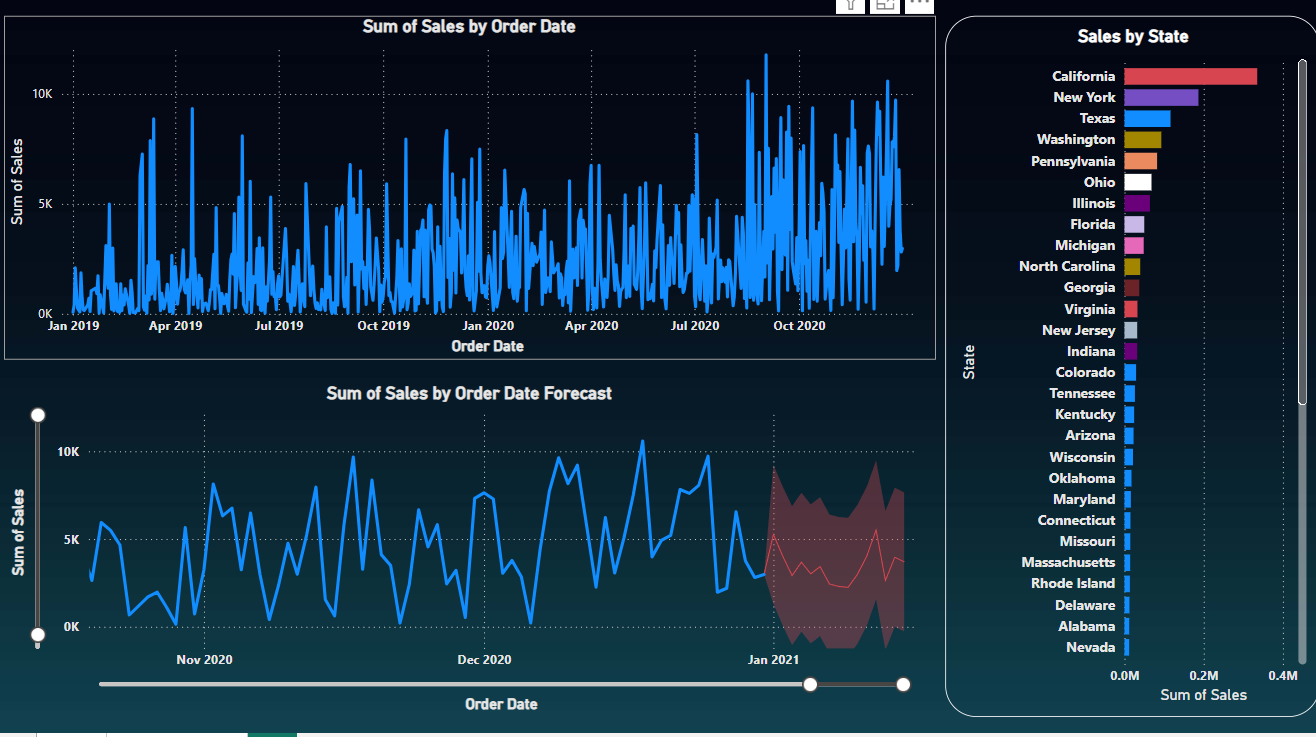

The dashboard page shown, as its layout file describes it:
{"tool":"powerbi","page":{"name":"FORCASTING","canvas":[1280,720],"ordinal":1},"visuals":[{"type":"lineChart","fields":{"Y":["Sum(Sheet1.Sales)"],"Category":["Sheet1.Order Date"]},"box":[10,28.3,898.3,331.7],"z":0},{"type":"lineChart","title":"Sum of Sales by Order Date Forecast","fields":{"Y":["Sum(Sheet1.Sales)"],"Category":["Sheet1.Order Date"]},"box":[10,381.7,898.3,323.3],"z":1000},{"type":"clusteredBarChart","title":"Sales by State","fields":{"Category":["Sheet1.State"],"Y":["Sum(Sheet1.Sales)"]},"box":[918.3,28.3,361.7,676.7],"z":2000}]}

Visuals, with their boxes in screenshot pixels (x1, y1, x2, y2), scaled from the page's 1280x720 canvas onto the 1316x737 screenshot:
lineChart - Sum(Sheet1.Sales) x Sheet1.Order Date: <region>10, 29, 934, 368</region>
"Sum of Sales by Order Date Forecast" lineChart: <region>10, 391, 934, 722</region>
"Sales by State" clusteredBarChart: <region>944, 29, 1315, 722</region>
